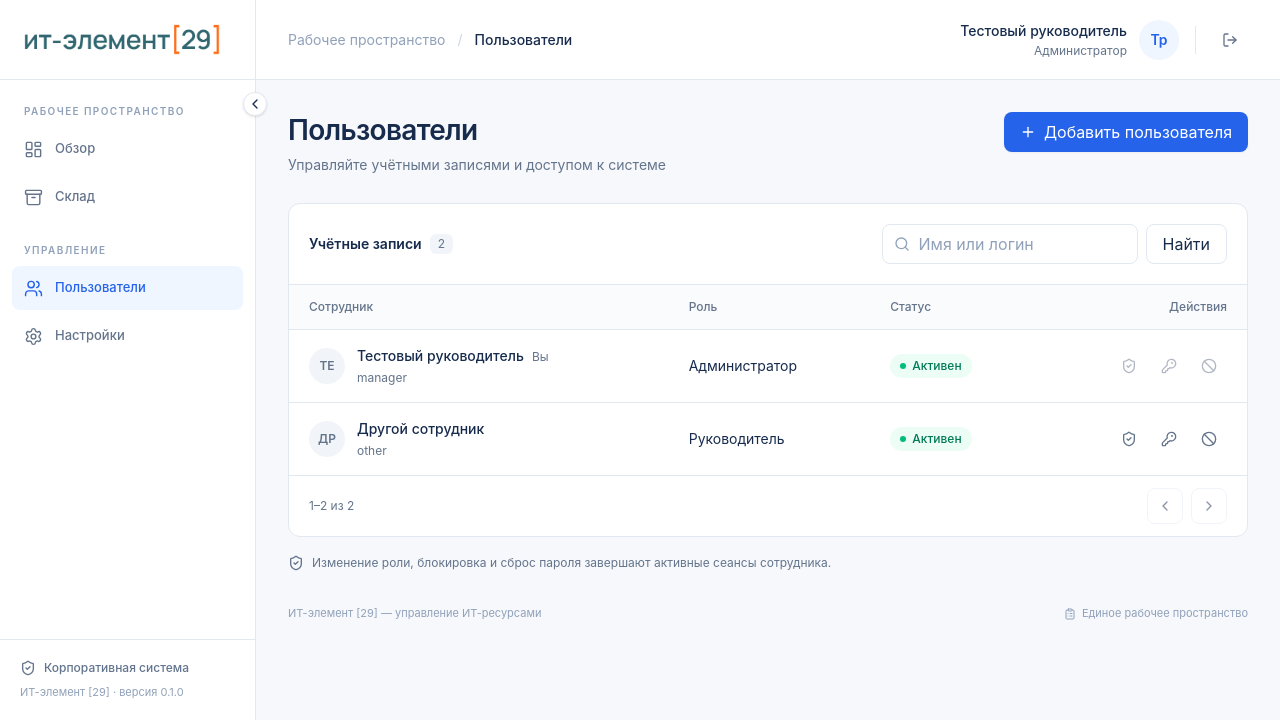
it: Авторизация и интерфейс › администратору доступны создание, роль, блокировка и сброс; свои роль и блокировка закрыты
Expected: the button "Добавить пользователя" is shown, [1004,112,1248,152]
Expected: the button named "Изменить роль" in the row of "manager" is disabled, [1111,348,1147,384]
Click the button named "Заблокировать" in the row of "Другой сотрудник": (1209,439) [1191,421,1227,457]
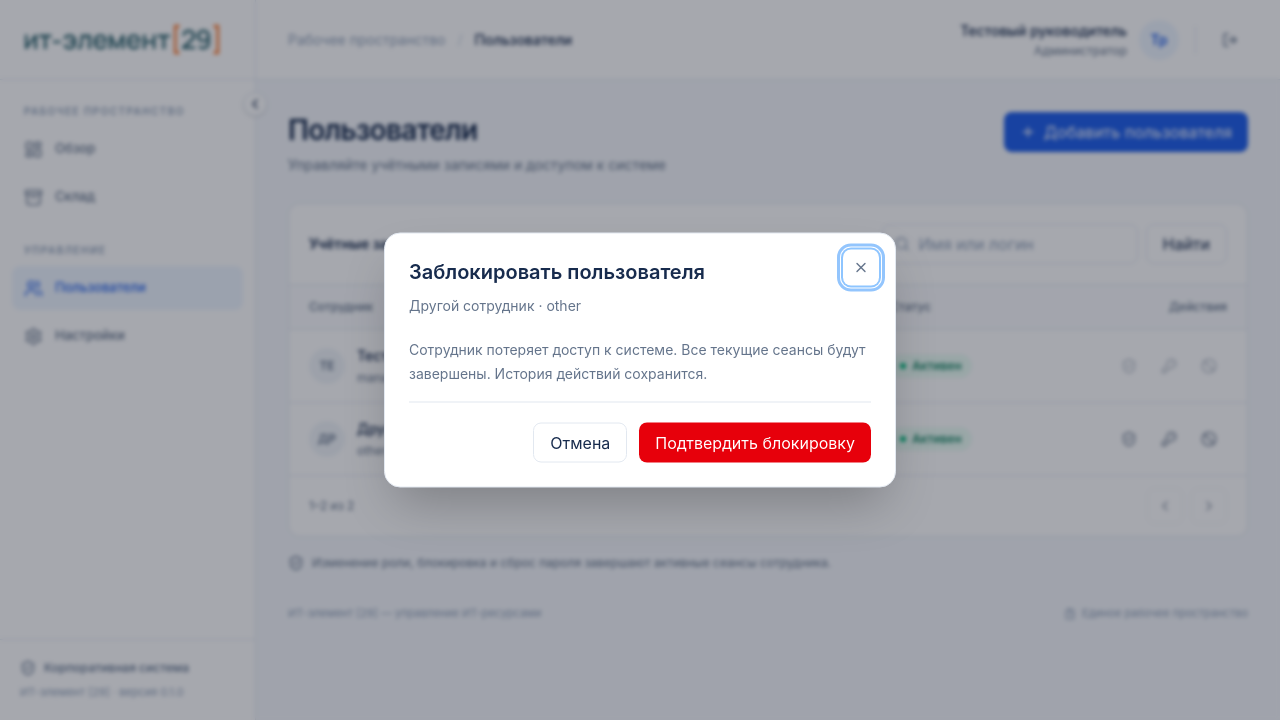
Expected: the dialog shows "Другой сотрудник", [409,296,581,314]
Expected: the button "Подтвердить блокировку" is shown, [639,422,871,462]
Click the button "Отмена": (580,442) [533,422,627,462]
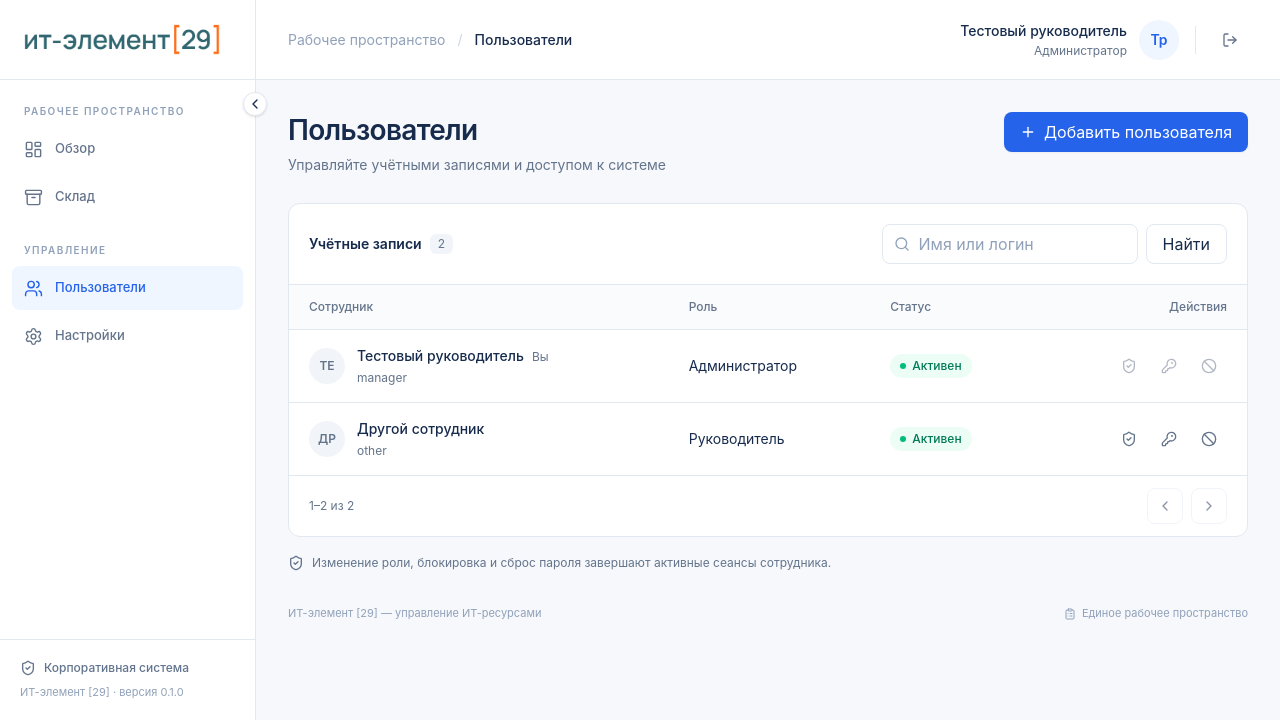
Click the button "Добавить пользователя": (1126,132) [1004,112,1248,152]
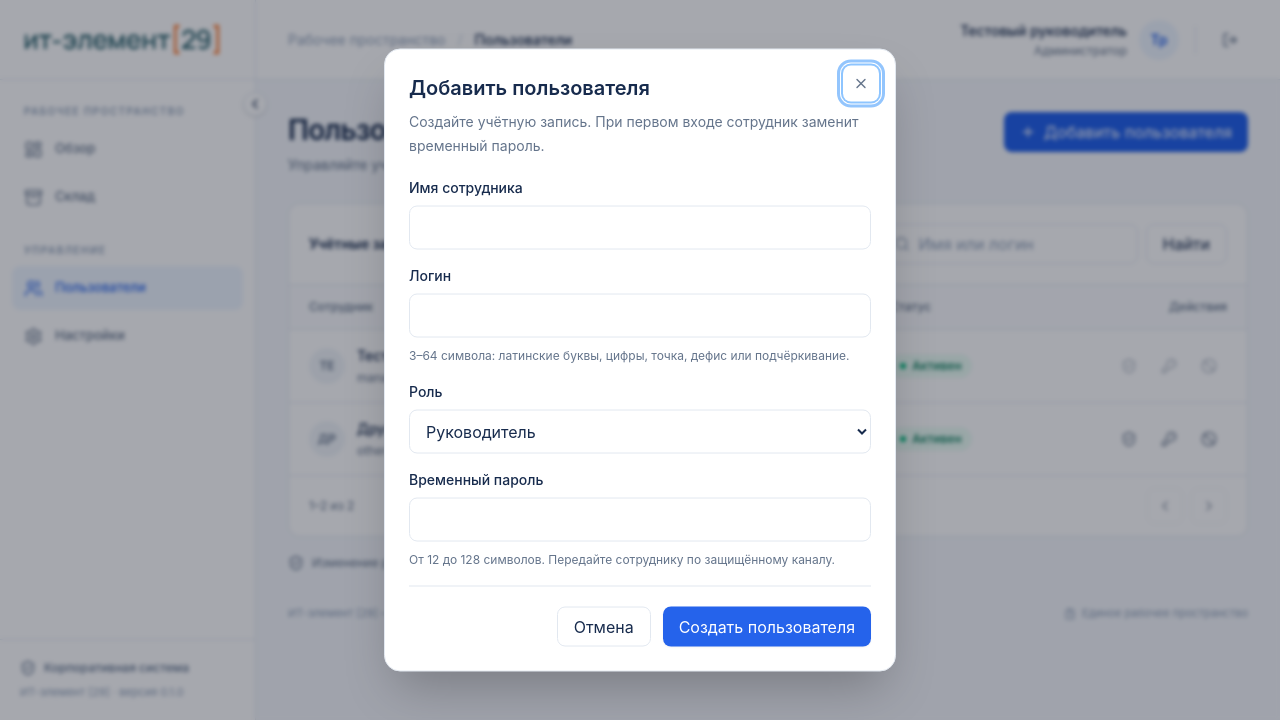
Expected: the dialog shows "Временный пароль", [409,470,543,488]
